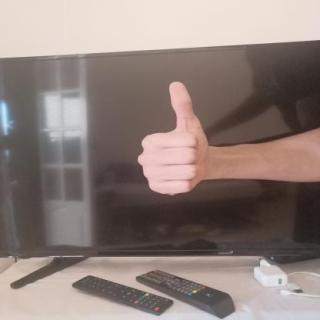ALIF: (125, 71, 219, 202)
